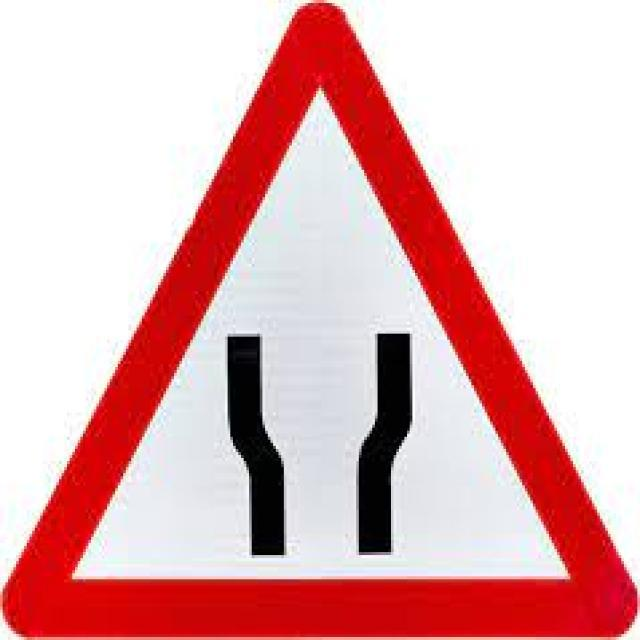road widens ahead: (21, 29, 608, 617)
